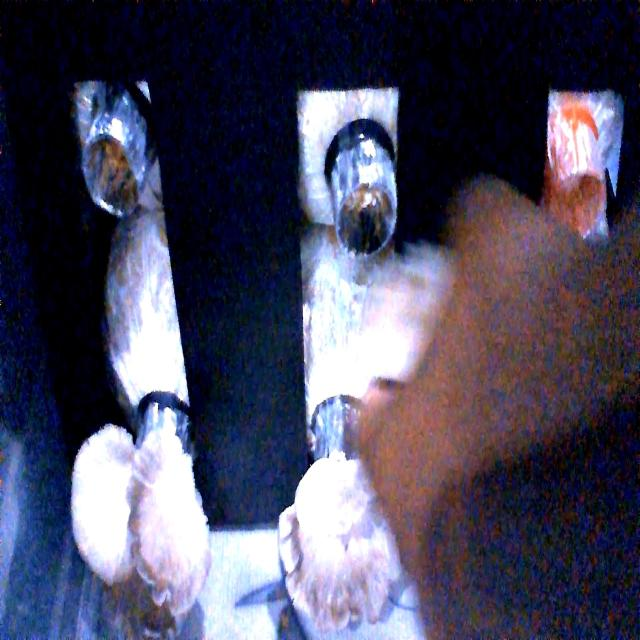big: (66, 422, 200, 608), (279, 463, 389, 632)
nfound: (335, 153, 389, 280), (75, 127, 142, 217), (544, 166, 610, 224)
